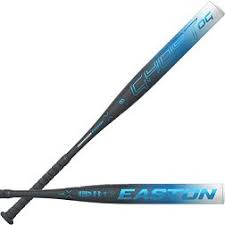baseball bat: (1, 1, 224, 224), (1, 185, 225, 204)
